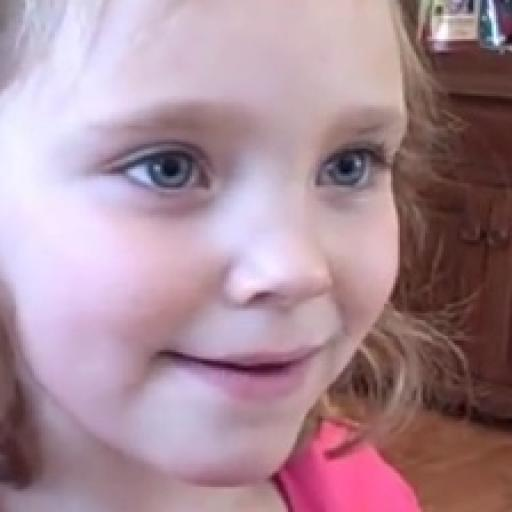Autism: (16, 18, 512, 512)
